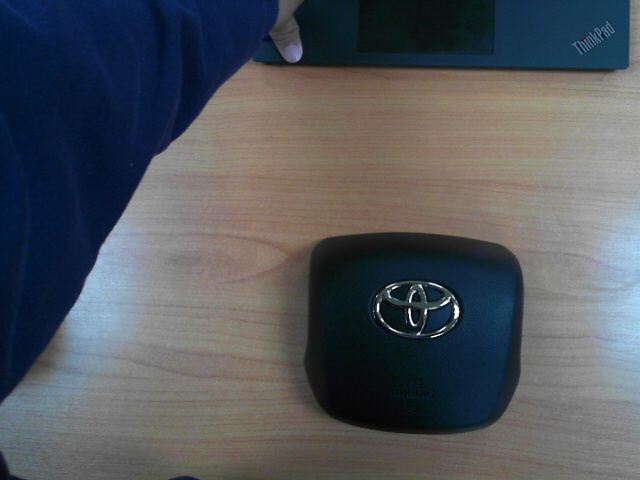Airbag: (305, 230, 520, 432)
